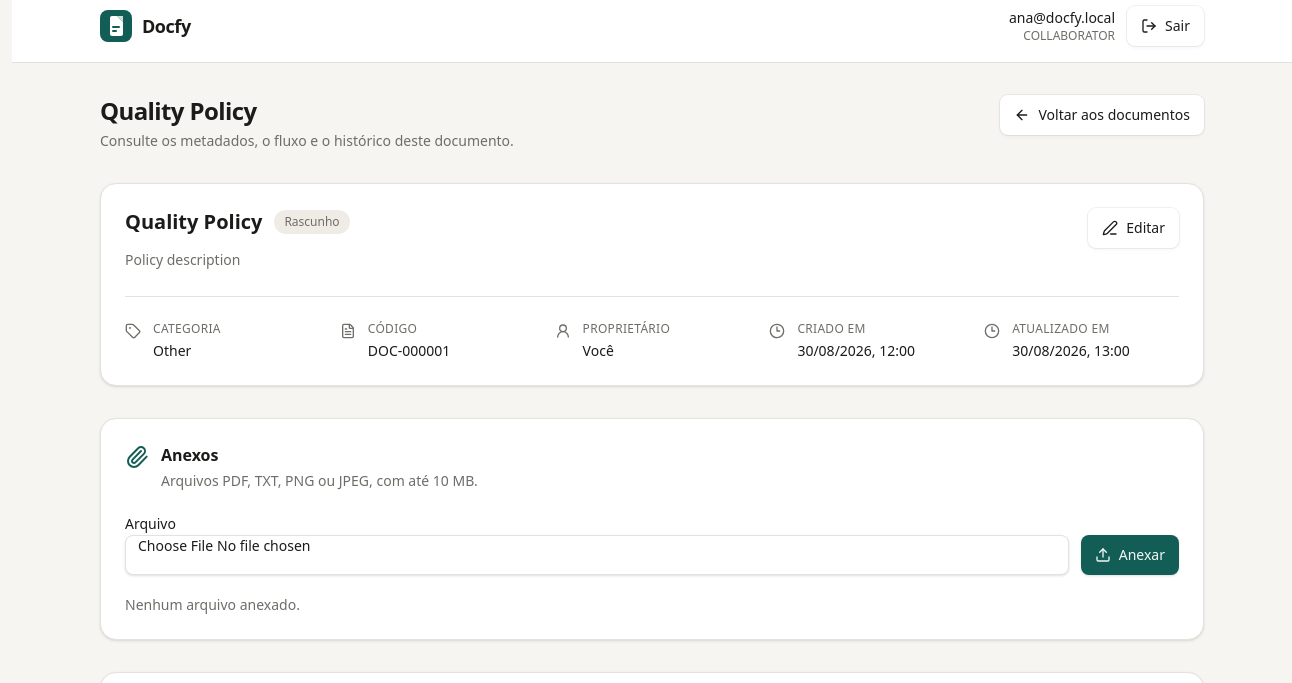
Test case: DocumentDetailPage edit UX › patches only a changed title and shows success
Click the button "Editar" at (1134, 228), box left=1088, top=208, right=1179, bottom=248
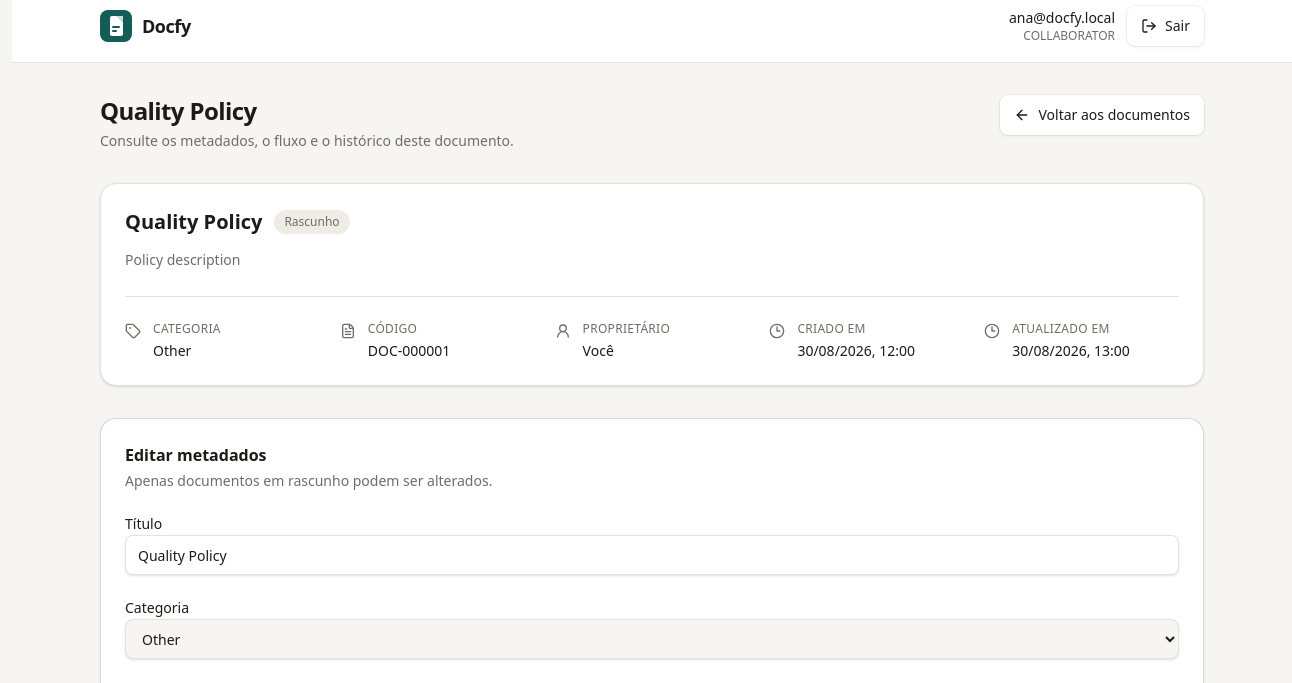
Replace the text in the field labelled "Título" with "Updated Policy" at (652, 555), box left=125, top=535, right=1179, bottom=575
(page scrolled)
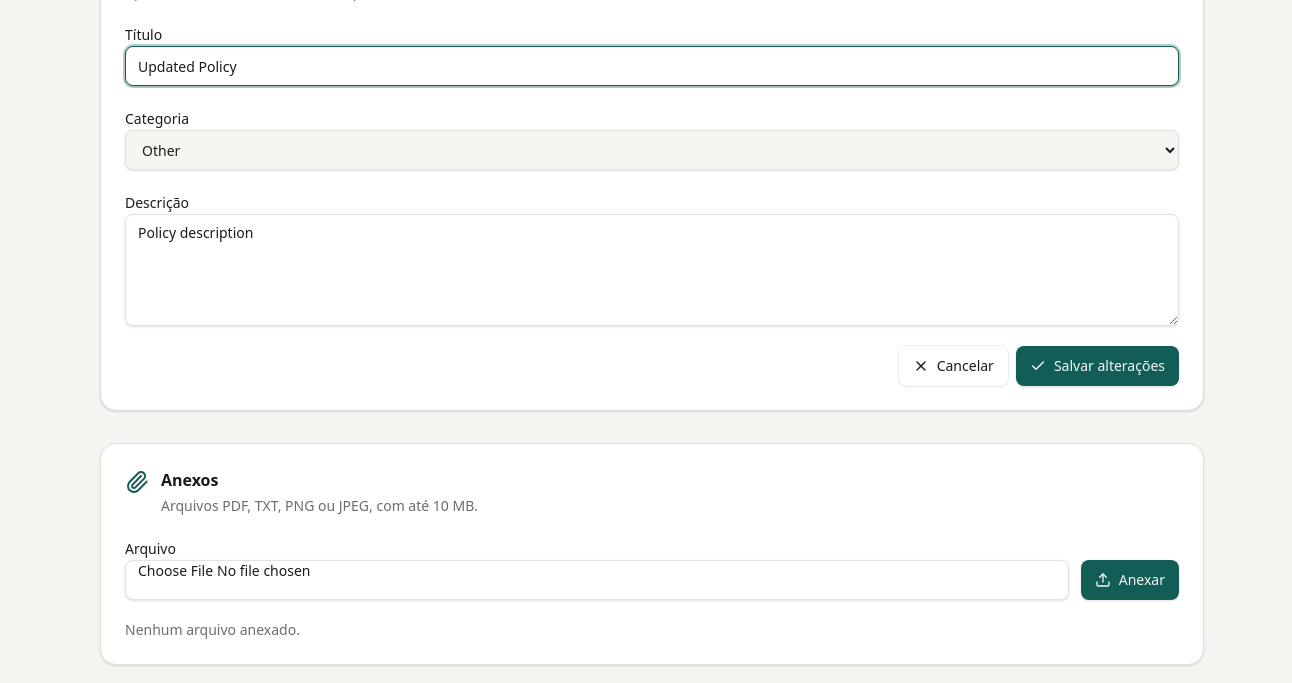
Click the button "Salvar alterações" at (1097, 366), box left=1016, top=346, right=1179, bottom=386
(page scrolled)
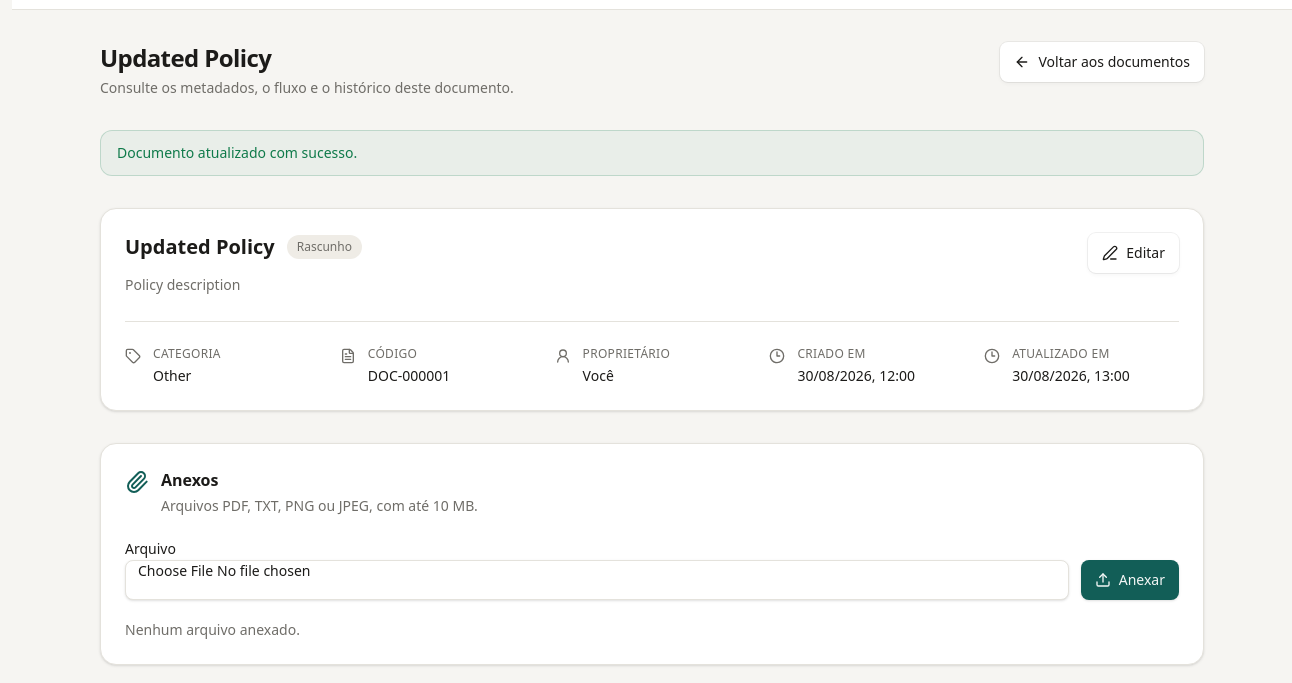
Check: the text "Documento atualizado com sucesso." is shown, box left=100, top=130, right=1204, bottom=176
Check: the heading "Updated Policy" in the row of "Voltar aos documentos" is shown, box left=100, top=41, right=271, bottom=74
